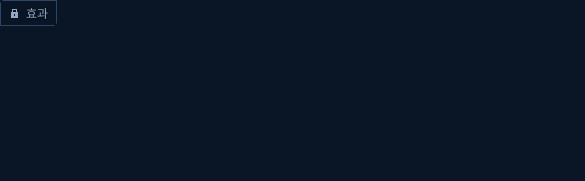
Test: SlotChips (보너스 통합 칩) › 요리가 열리기 전이고 활성 효과도 없으면 잠금 칩 하나와 진행 조건 툴팁을 보인다
Expected: the element named "활성 효과" reads "효과", [26,4,48,21]
Expected: the icon is shown, [9,8,20,18]
Hover over the element showing "효과" at (284, 22), box [0,0,568,44]
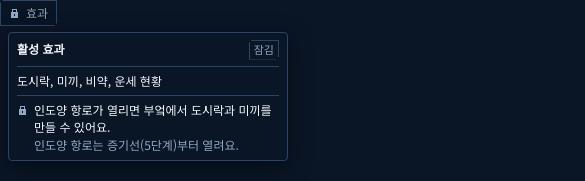
Expected: the tooltip shows "잠김", [254,41,274,57]
Expected: the tooltip shows "인도양 항로가 열리면 부엌에서 도시락과 미끼를 만들 수 있어요.", [34,101,272,135]
